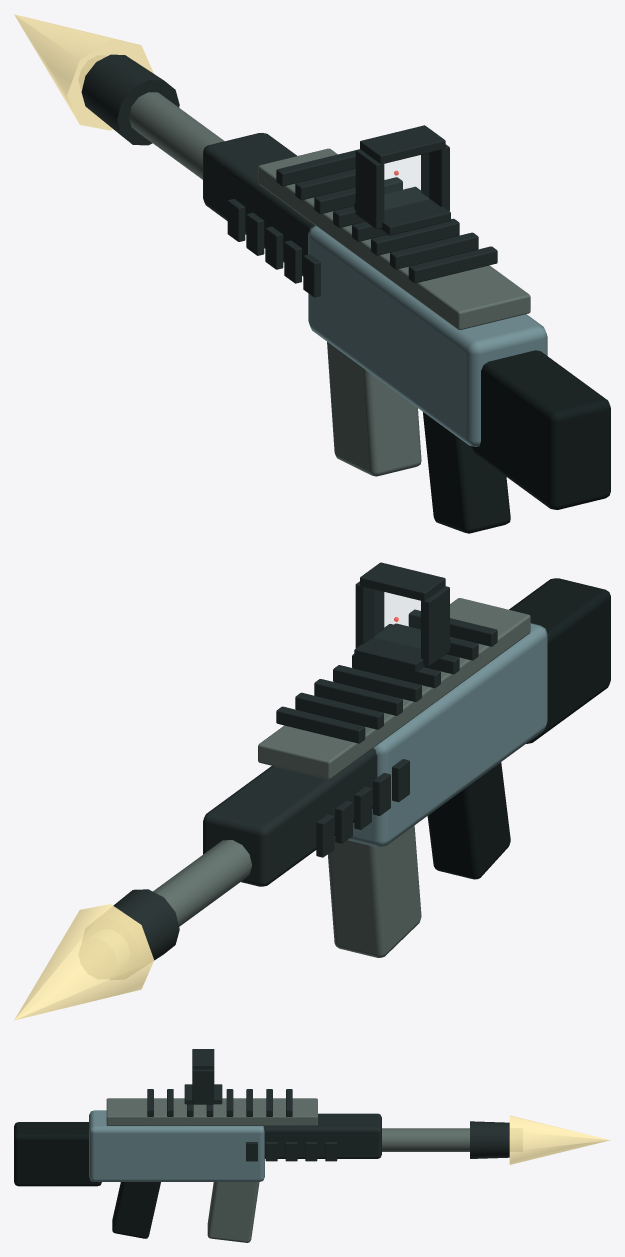
Rendered from equipment-2.glb.
3 renders of one model, top to bottom at view 1: azimuth 30°, elevation 25°; view 2: azimuth 150°, elevation 25°; view 3: azimuth 270°, elevation 25°, orthographic. The views are drawn at different scales.
Bounding box in the file's own units: 0.132 × 0.4526 × 1.36.
